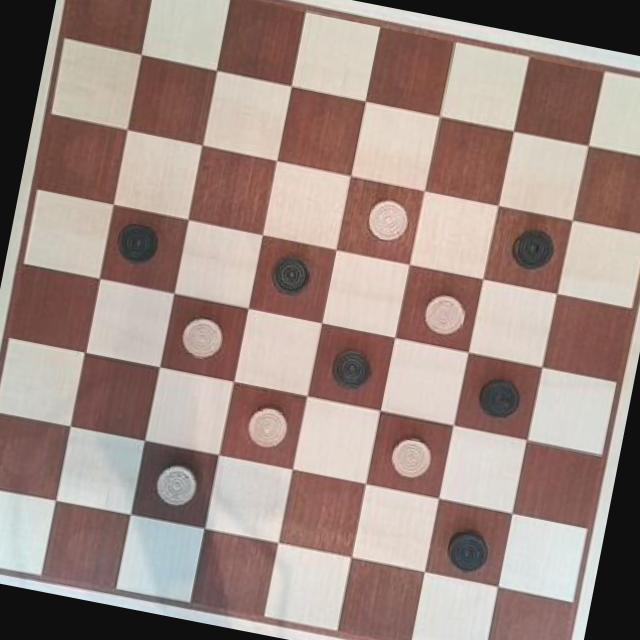BOARD: (0, 0, 640, 640)
black: (500, 217, 566, 284), (432, 518, 502, 578), (472, 366, 528, 429), (111, 212, 169, 269), (326, 339, 380, 398), (269, 253, 317, 299)
white: (357, 187, 420, 256), (233, 388, 294, 458), (143, 454, 205, 516), (382, 428, 441, 488), (417, 284, 474, 342), (174, 313, 232, 367)
